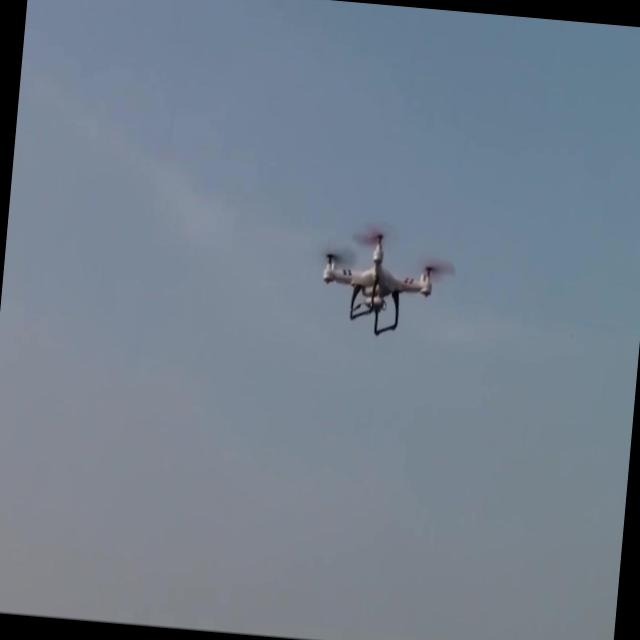drone: (311, 222, 447, 343)
